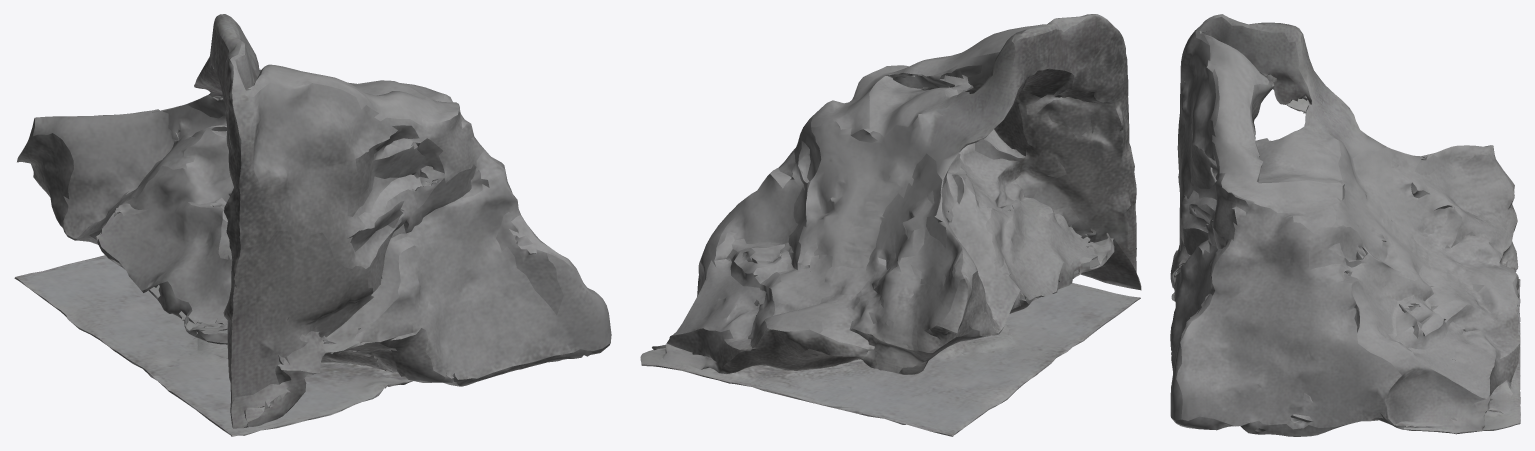
The model's file is tex_mesh.glb.
The picture shows the model from 3 angles, left to right: view 1: azimuth 30°, elevation 25°; view 2: azimuth 150°, elevation 25°; view 3: azimuth 270°, elevation 25°; orthographic projection. The views are drawn at different scales.
Parts seen in each view (by area): view 1: world; view 2: world; view 3: world.
Boxes of the visible parts, x1,y1,x2,y2 form: world: [14, 14, 611, 436]; world: [640, 14, 1141, 436]; world: [1170, 14, 1520, 436].
Size of the model in its own units: 0.35 by 0.3181 by 0.3495.
1 material, 1 textured.
